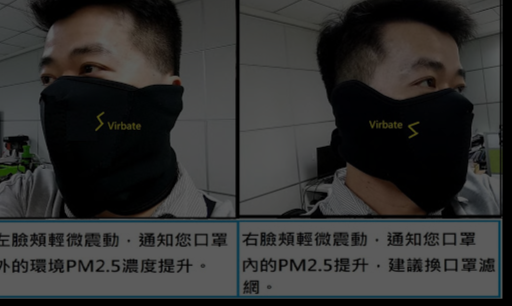with_mask: (38, 36, 174, 197), (369, 53, 470, 197)
